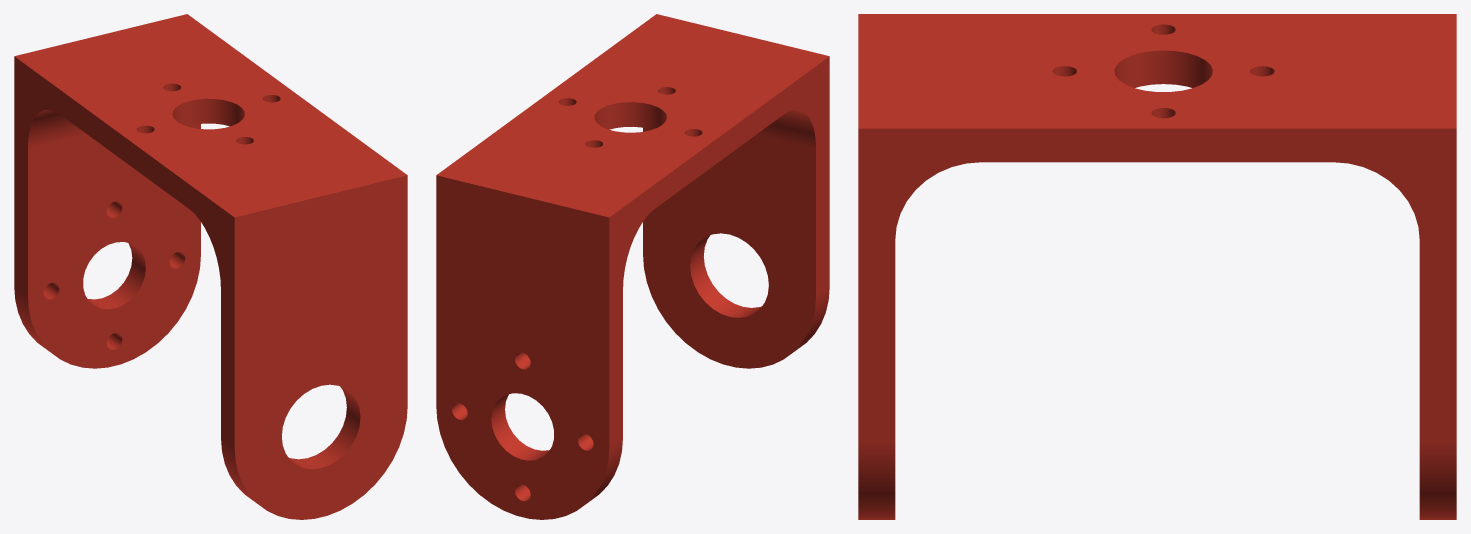
File: Right Hip Side.dae
3 renders of one model, left to right at view 1: azimuth 30°, elevation 25°; view 2: azimuth 150°, elevation 25°; view 3: azimuth 270°, elevation 25°, orthographic. The views are drawn at different scales.
Parts seen in each view (by area): view 1: Body3_Paint_-_Metallic_(Red); view 2: Body3_Paint_-_Metallic_(Red); view 3: Body3_Paint_-_Metallic_(Red).
Boxes of the visible parts, x1,y1,x2,y2 form: Body3_Paint_-_Metallic_(Red): (14,14,407,519); Body3_Paint_-_Metallic_(Red): (436,14,829,519); Body3_Paint_-_Metallic_(Red): (858,14,1456,519).
Size of the model in its own units: 0.022 by 0.0485 by 0.039.
